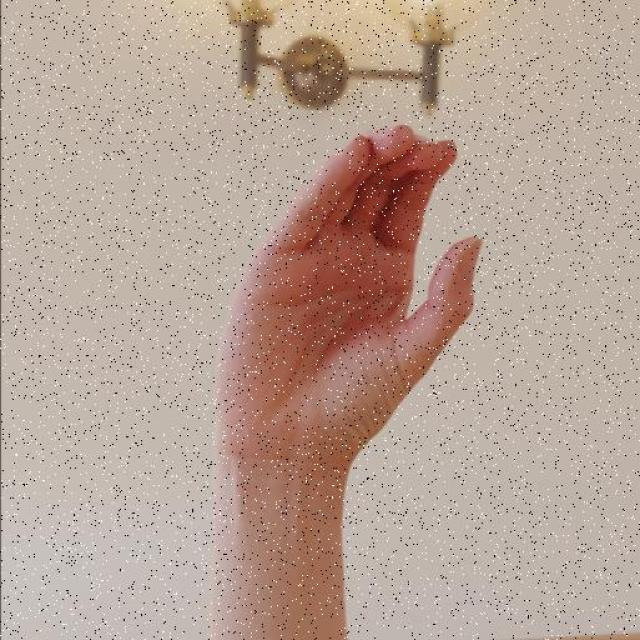C: (212, 121, 487, 462)
